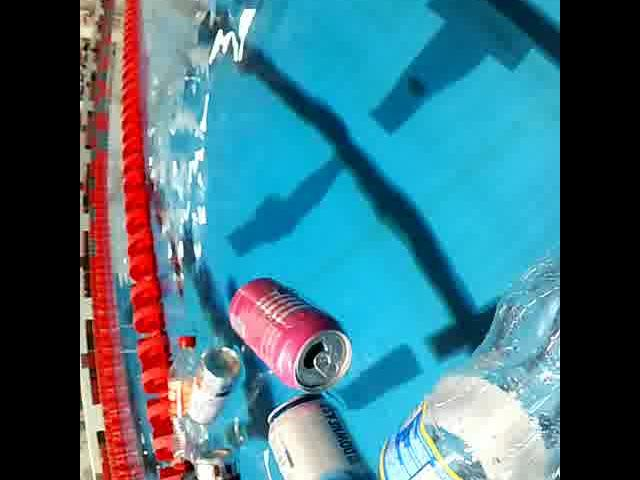Bottle: (359, 250, 560, 480), (166, 327, 210, 465)
Can: (228, 270, 356, 394), (265, 387, 393, 480), (186, 342, 242, 424), (190, 442, 252, 480)
